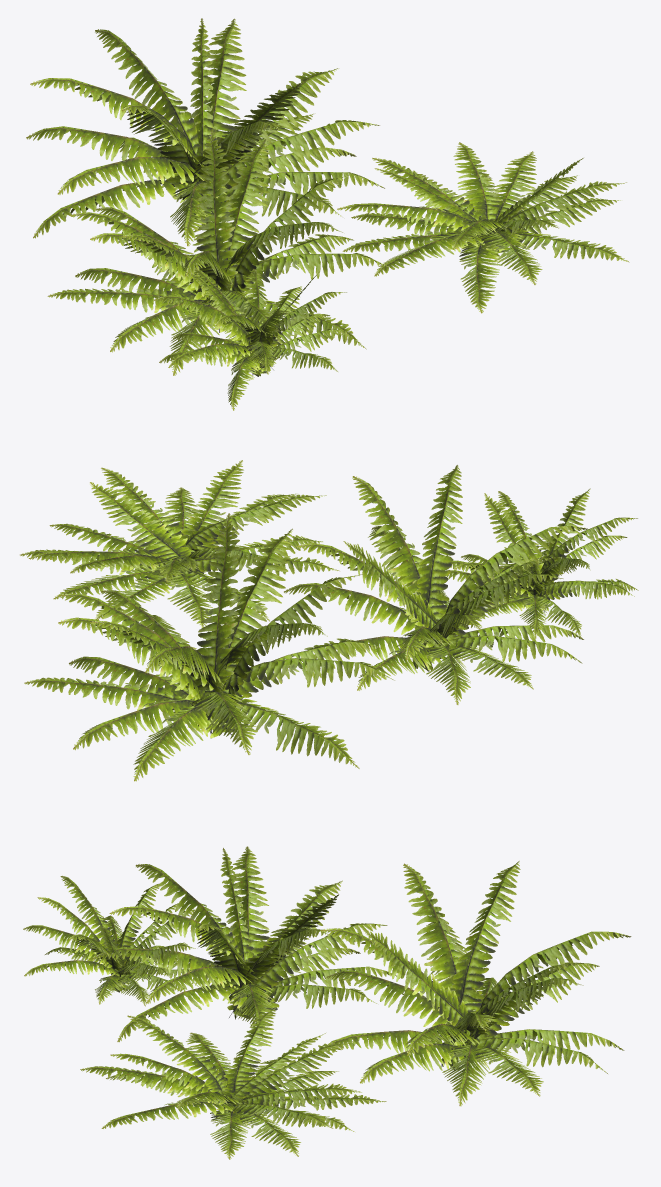
Rendered from fern-grass-02-93d1f6.glb.
The picture shows the model from 3 angles, top to bottom: view 1: azimuth 30°, elevation 25°; view 2: azimuth 150°, elevation 25°; view 3: azimuth 270°, elevation 25°; orthographic projection. The views are drawn at different scales.
Visible parts, largest first — view 1: PropMesh; view 2: PropMesh; view 3: PropMesh.
Part boxes in pixels (left/top/right/bottom): PropMesh: left=26, top=18, right=629, bottom=410; PropMesh: left=20, top=460, right=638, bottom=781; PropMesh: left=23, top=846, right=631, bottom=1159.
Size of the model in its own units: 0.6506 by 0.2279 by 0.7.
1 material, 1 textured.
